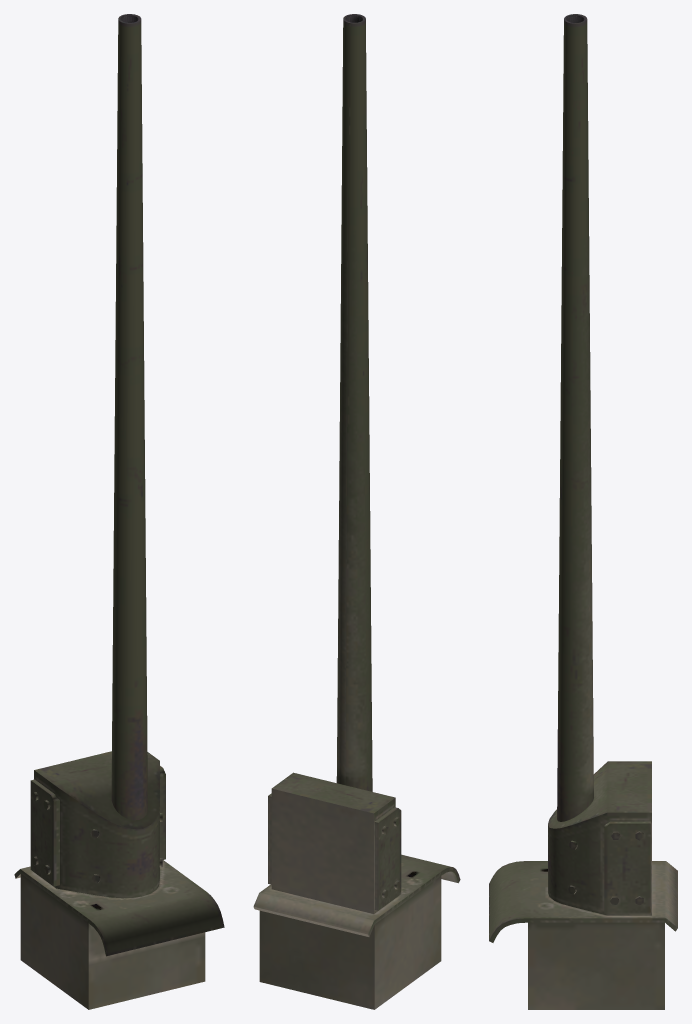
File: Gun_05.glb
The picture shows the model from 3 angles, left to right: view 1: azimuth 30°, elevation 25°; view 2: azimuth 150°, elevation 25°; view 3: azimuth 270°, elevation 25°; orthographic projection. The views are drawn at different scales.
Parts seen in each view (by area): view 1: set_0_group_0; view 2: set_0_group_0; view 3: set_0_group_0.
Part boxes in pixels (left/top/right/bottom): set_0_group_0: left=14, top=14, right=224, bottom=1009; set_0_group_0: left=253, top=14, right=460, bottom=1009; set_0_group_0: left=489, top=14, right=677, bottom=1009.
Bounding box in the file's own units: 0.4379 × 3.41 × 0.6053.
Materials: 1 (1 with a texture image).
